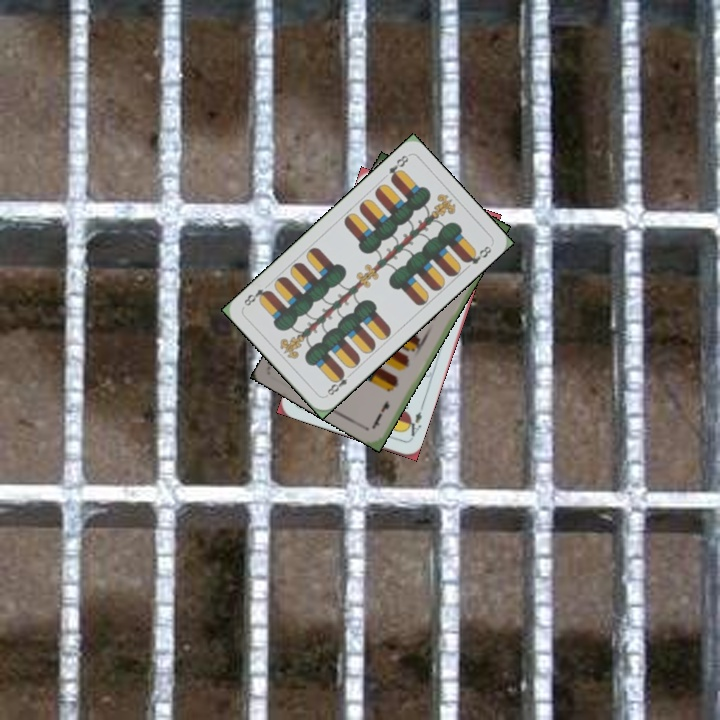E7: (369, 396, 392, 430)
E8: (322, 367, 355, 399), (384, 151, 411, 184)
EA: (401, 402, 426, 442)
